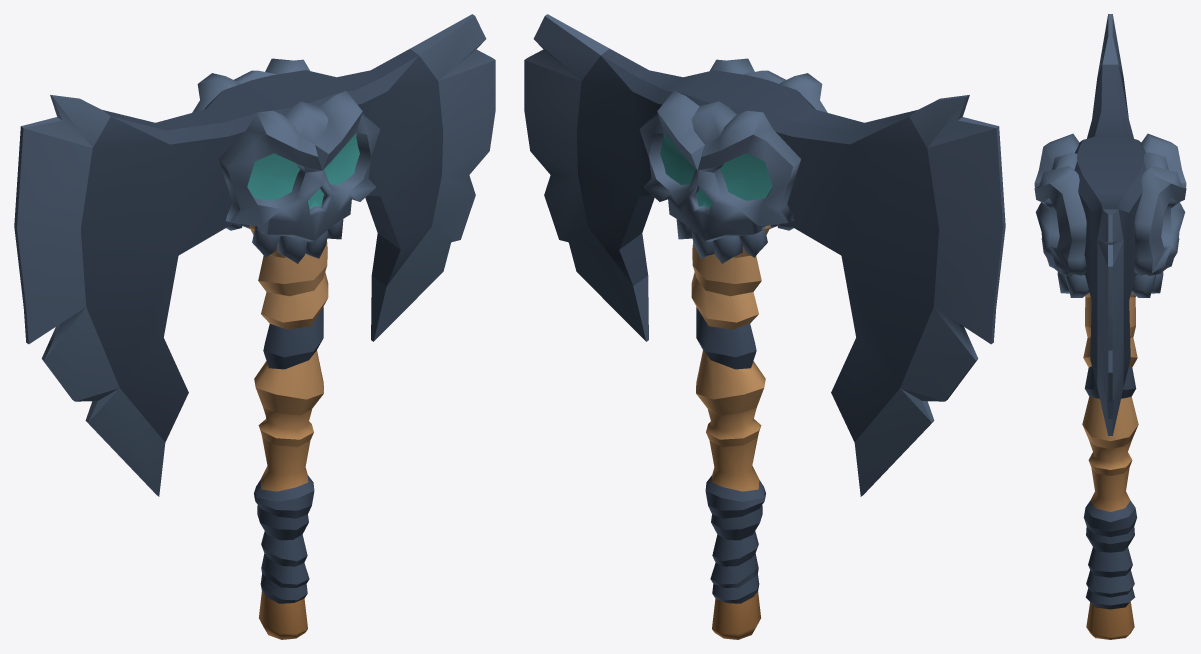
File: Wield_Gear_Right_36.fbx
3 views of the same model, side by side, from view 1: azimuth 30°, elevation 25°; view 2: azimuth 150°, elevation 25°; view 3: azimuth 270°, elevation 25° (orthographic). The views are drawn at different scales.
Parts seen in each view (by area): view 1: Wield_Gear_Right_36; view 2: Wield_Gear_Right_36; view 3: Wield_Gear_Right_36.
Part boxes in pixels (x1,y1,x2,y2): Wield_Gear_Right_36: (14, 14, 495, 639); Wield_Gear_Right_36: (524, 14, 1005, 639); Wield_Gear_Right_36: (1034, 14, 1186, 639).
Size of the model in its own units: 55.85 by 66.01 by 17.49.
